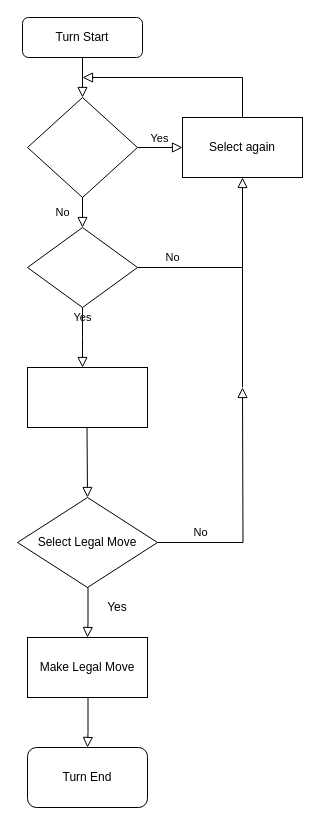
This 320x825 diagram has some shape labels left out. The shapes that lost their labels are listed below. From the top down, each one's box as (x1, y1, x2, y2) in pixels, then its label:
(26, 96, 138, 198): Player selects empty space
(26, 226, 138, 308): Player selects own piece
(26, 366, 148, 428): Select Move
